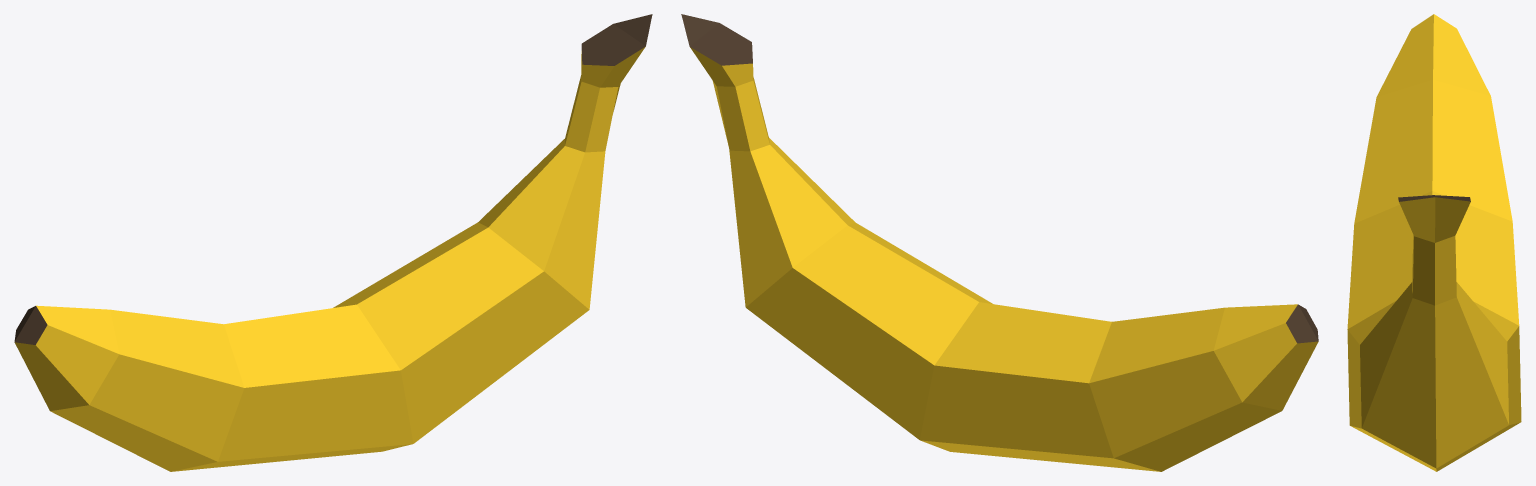
Rendered from banana.glb.
3 views of the same model, side by side, from view 1: azimuth 30°, elevation 25°; view 2: azimuth 150°, elevation 25°; view 3: azimuth 270°, elevation 25° (orthographic). The views are drawn at different scales.
Parts seen in each view (by area): view 1: banana; view 2: banana; view 3: banana.
Part boxes in pixels (x1,y1,x2,y2): banana: [14, 14, 652, 471]; banana: [681, 14, 1318, 471]; banana: [1347, 14, 1521, 471].
Bounding box in the file's own units: 0.2807 × 0.1564 × 0.0581.
Materials: 1 (1 with a texture image).
